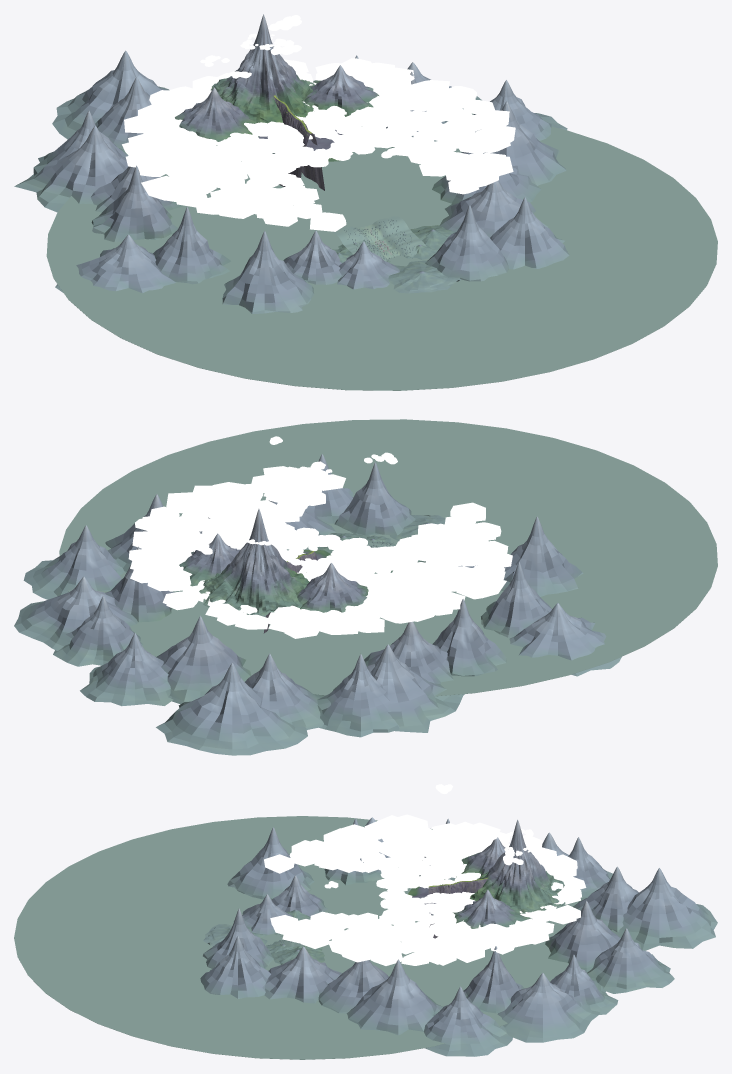
Rendered from ridge.glb.
3 renders of one model, top to bottom at view 1: azimuth 30°, elevation 25°; view 2: azimuth 150°, elevation 25°; view 3: azimuth 270°, elevation 25°, orthographic. The views are drawn at different scales.
Visible parts, largest first — view 1: Ridge_Backdrop, Ridge_Clouds, Ridge_Terrain; view 2: Ridge_Backdrop, Ridge_Clouds; view 3: Ridge_Backdrop, Ridge_Clouds, Ridge_Terrain.
Boxes of the visible parts, box(x1,y1,x2,y2) form: Ridge_Backdrop: box(14, 14, 717, 390); Ridge_Clouds: box(122, 15, 515, 231); Ridge_Terrain: box(273, 95, 324, 190); Ridge_Backdrop: box(14, 419, 717, 755); Ridge_Clouds: box(128, 436, 512, 638); Ridge_Backdrop: box(14, 816, 717, 1059); Ridge_Clouds: box(264, 784, 586, 965); Ridge_Terrain: box(428, 877, 488, 938).
Bounding box in the file's own units: 5200 × 1414 × 6344.
